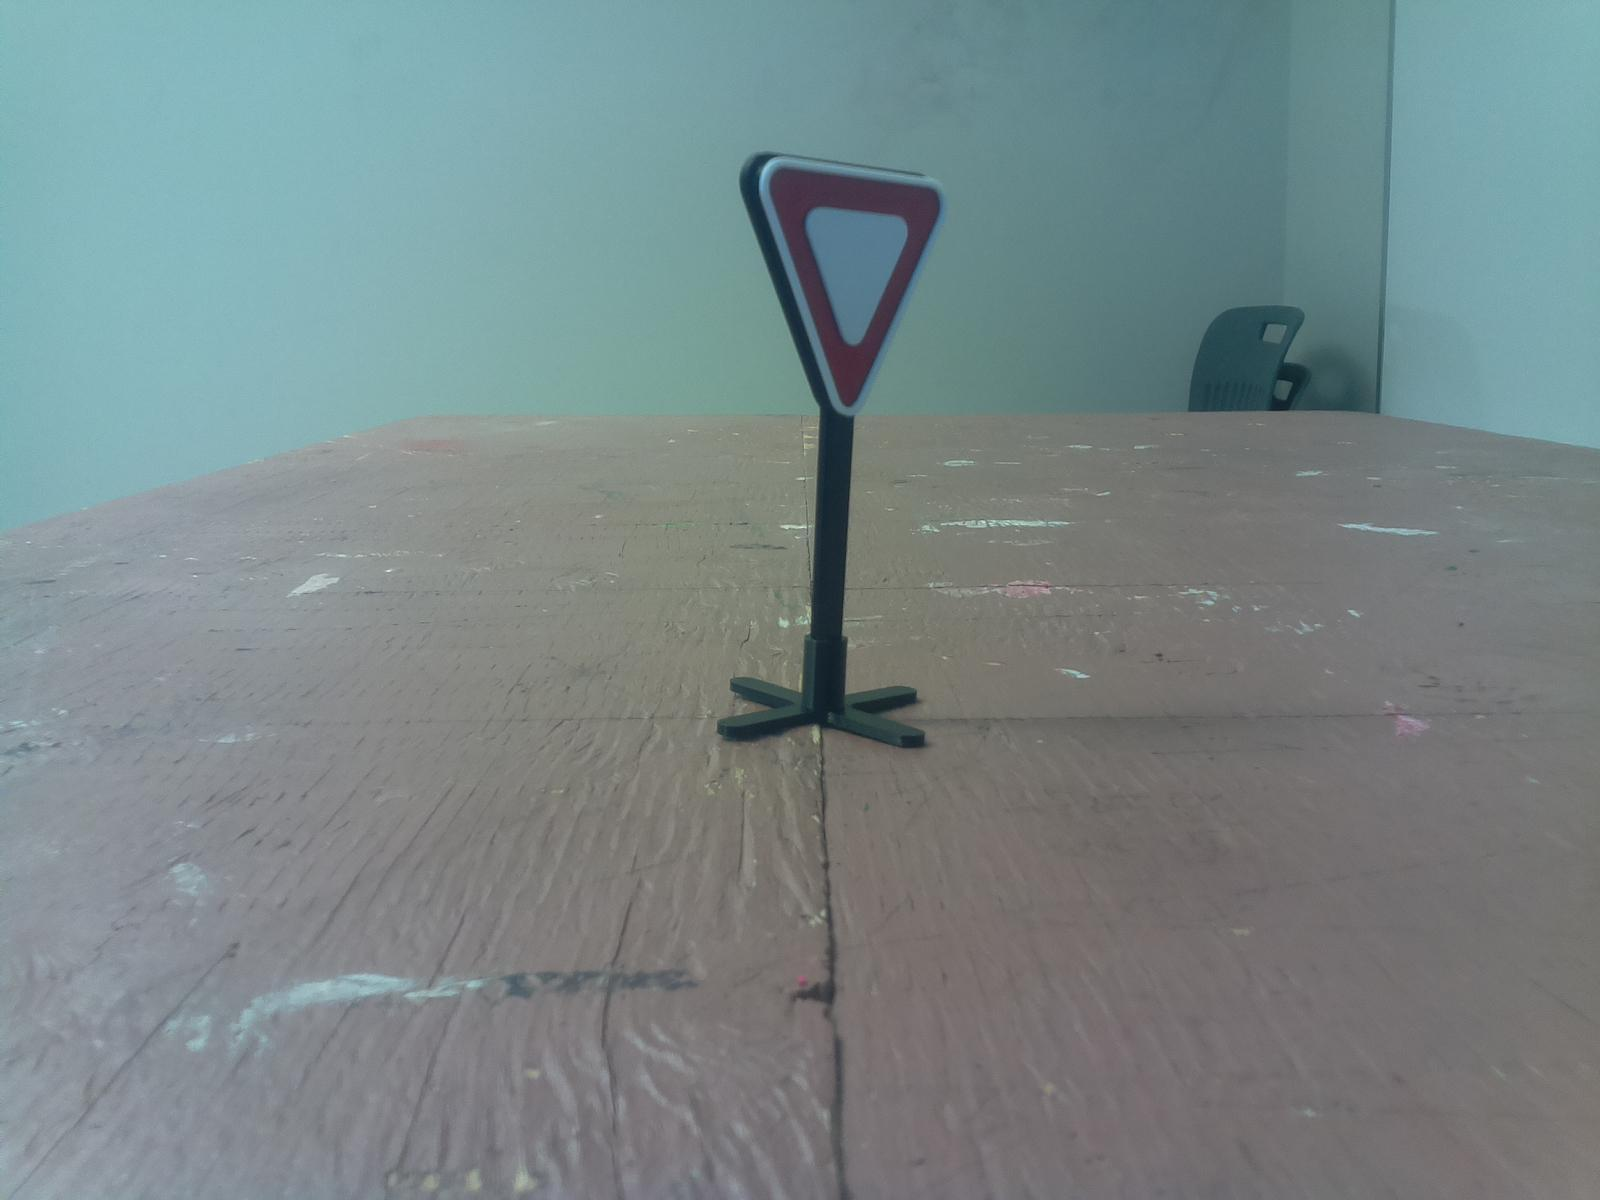sign_yield: (721, 137, 965, 405)
